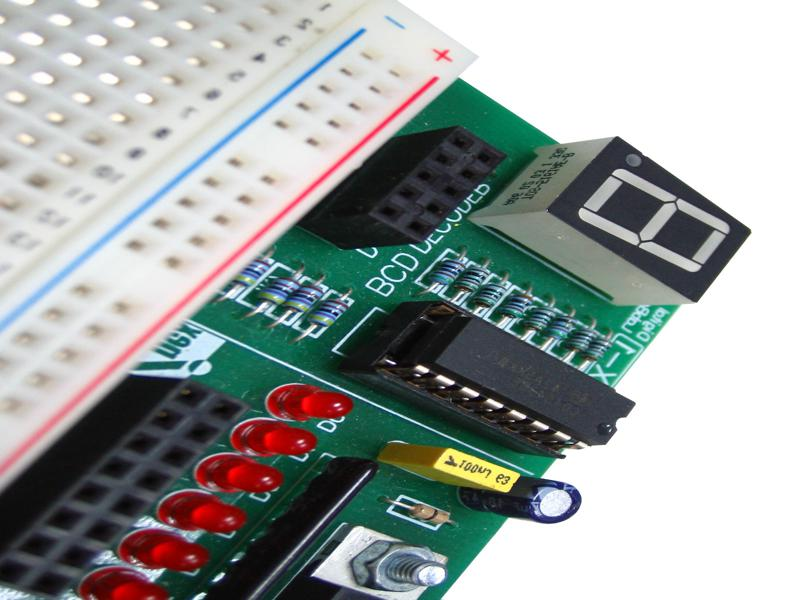Capacitor: (459, 471, 588, 530)
LED: (118, 528, 212, 574), (156, 490, 249, 536), (234, 417, 321, 460), (198, 453, 286, 494), (267, 383, 353, 423), (79, 564, 168, 600)
Resistor: (252, 268, 301, 314), (306, 291, 352, 334), (229, 253, 269, 298), (284, 276, 319, 321), (428, 252, 465, 294), (401, 499, 452, 529), (496, 288, 536, 325), (454, 261, 489, 302), (521, 301, 558, 338), (471, 278, 508, 313), (543, 311, 577, 344), (566, 324, 597, 358), (584, 333, 612, 368)
